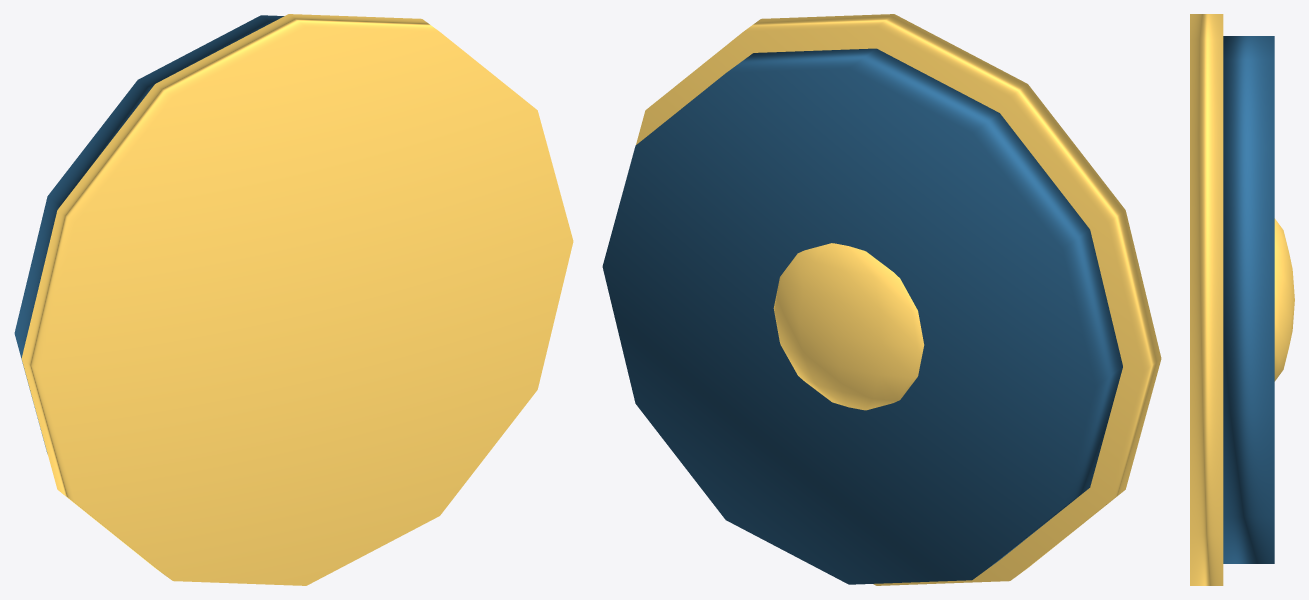
The model's file is shield.glb.
The picture shows the model from 3 angles, left to right: view 1: azimuth 30°, elevation 25°; view 2: azimuth 150°, elevation 25°; view 3: azimuth 270°, elevation 25°; orthographic projection. The views are drawn at different scales.
Parts seen in each view (by area): view 1: shield_rim, shield; view 2: shield, shield_rim, shield_sun; view 3: shield, shield_rim, shield_sun.
Boxes of the visible parts, <box> form: shield_rim: <box>21,14,573,585</box>; shield: <box>14,15,284,453</box>; shield: <box>602,48,1122,584</box>; shield_rim: <box>636,14,1161,585</box>; shield_sun: <box>773,243,924,410</box>; shield: <box>1223,36,1274,563</box>; shield_rim: <box>1190,14,1223,585</box>; shield_sun: <box>1274,218,1294,381</box>.
Bounding box in the file's own units: 0.78 × 0.78 × 0.1425.
